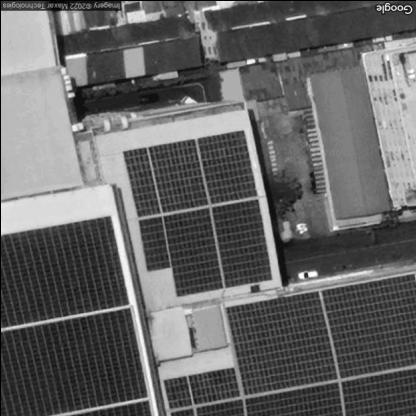solar-pv-panel: (161, 273, 416, 416), (0, 216, 150, 416), (120, 130, 271, 297)
